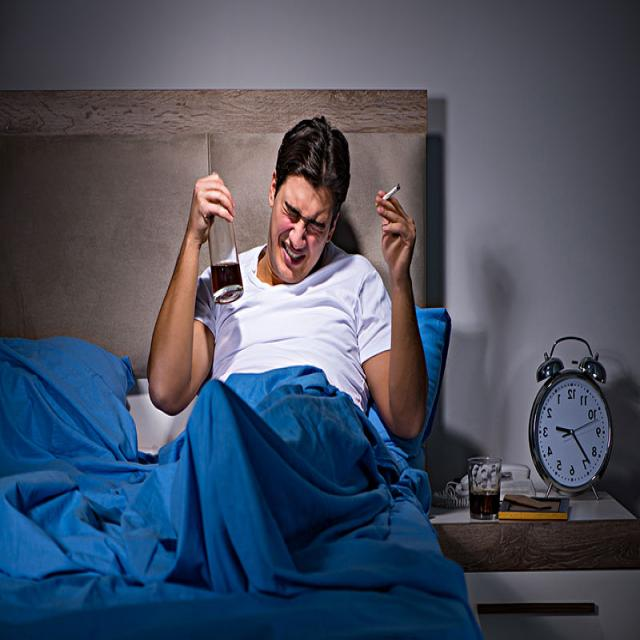smoking: (374, 183, 400, 211)
